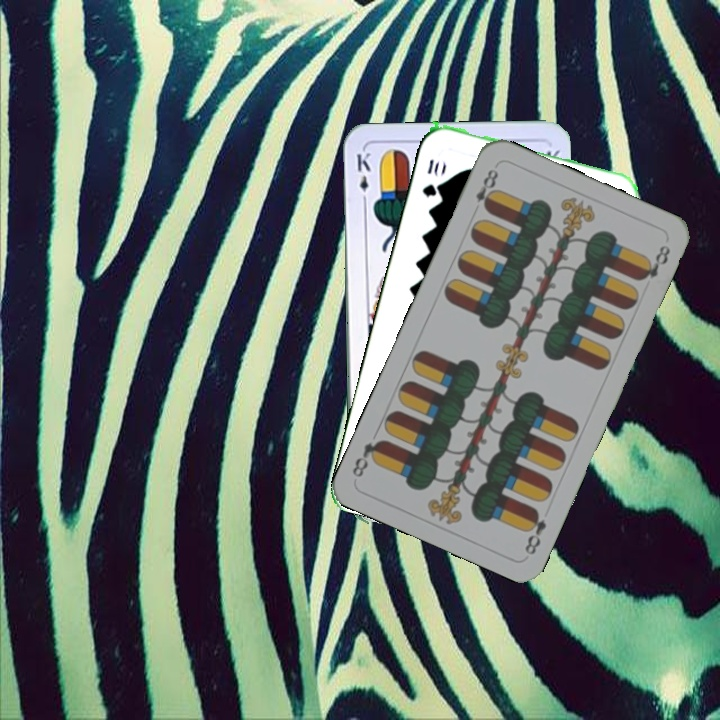E8: (520, 504, 550, 558), (471, 165, 502, 214)
EK: (352, 148, 374, 207)
G10: (418, 155, 443, 200)
